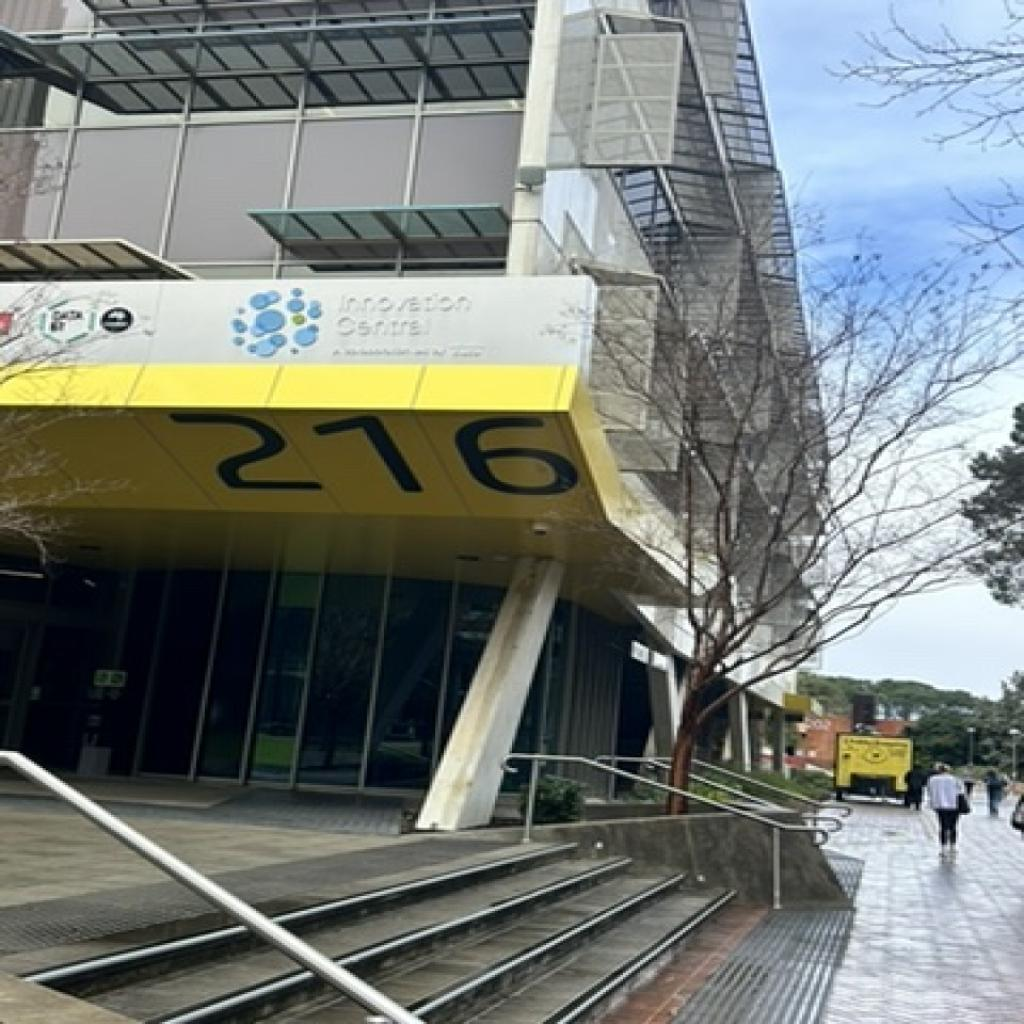BuildingCodes: (163, 399, 589, 513)
